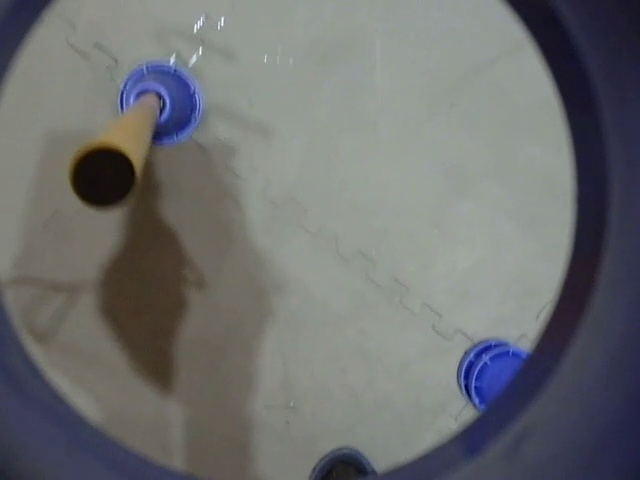tip: (64, 135, 137, 212), (62, 133, 135, 210)
